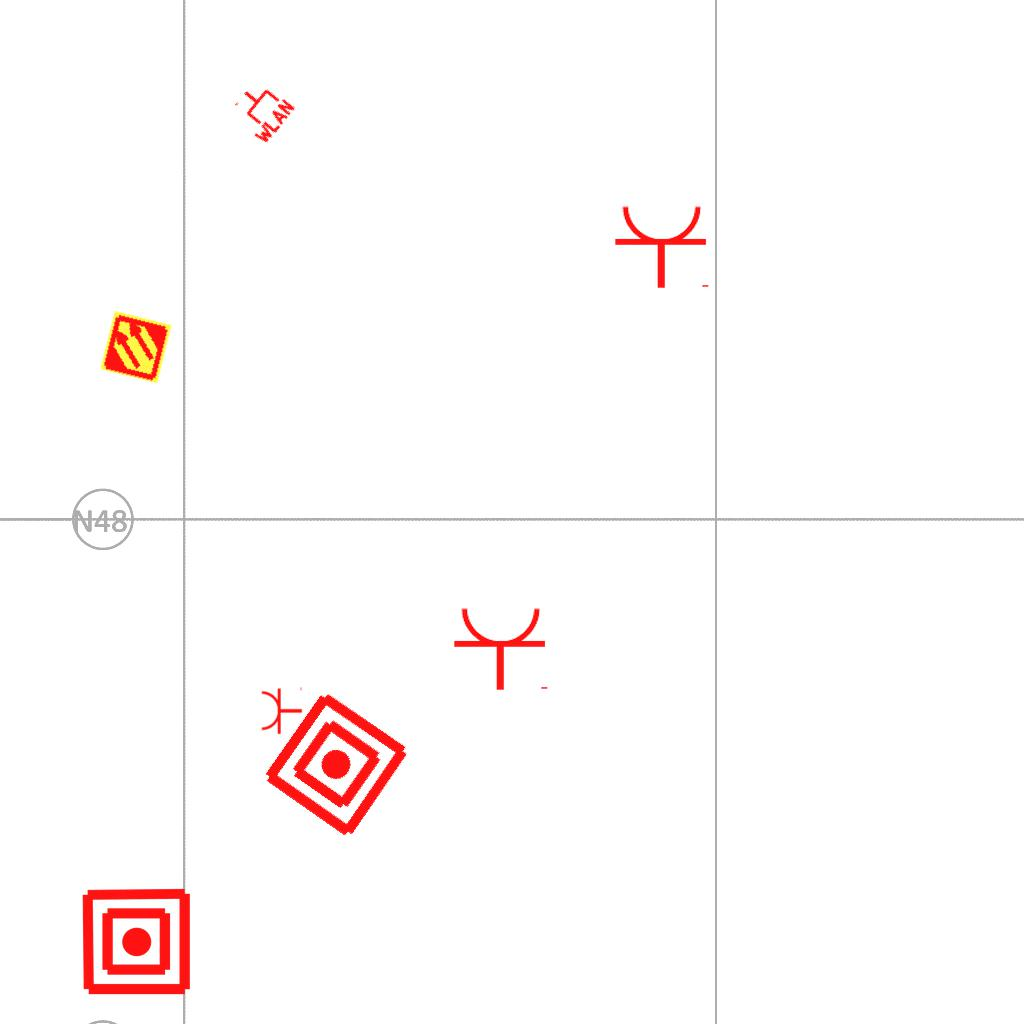ASR_Ansaugrauchmelder: (98, 309, 174, 385)
NAM-Nichtautomatischer_Melder: (257, 685, 416, 844), (80, 885, 193, 998)
Schukosteckdose_einfach: (452, 605, 552, 692), (613, 203, 713, 290), (260, 685, 303, 735)
WLAN: (224, 74, 298, 148)
